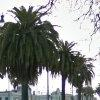Palm tree: (4, 4, 85, 89)
